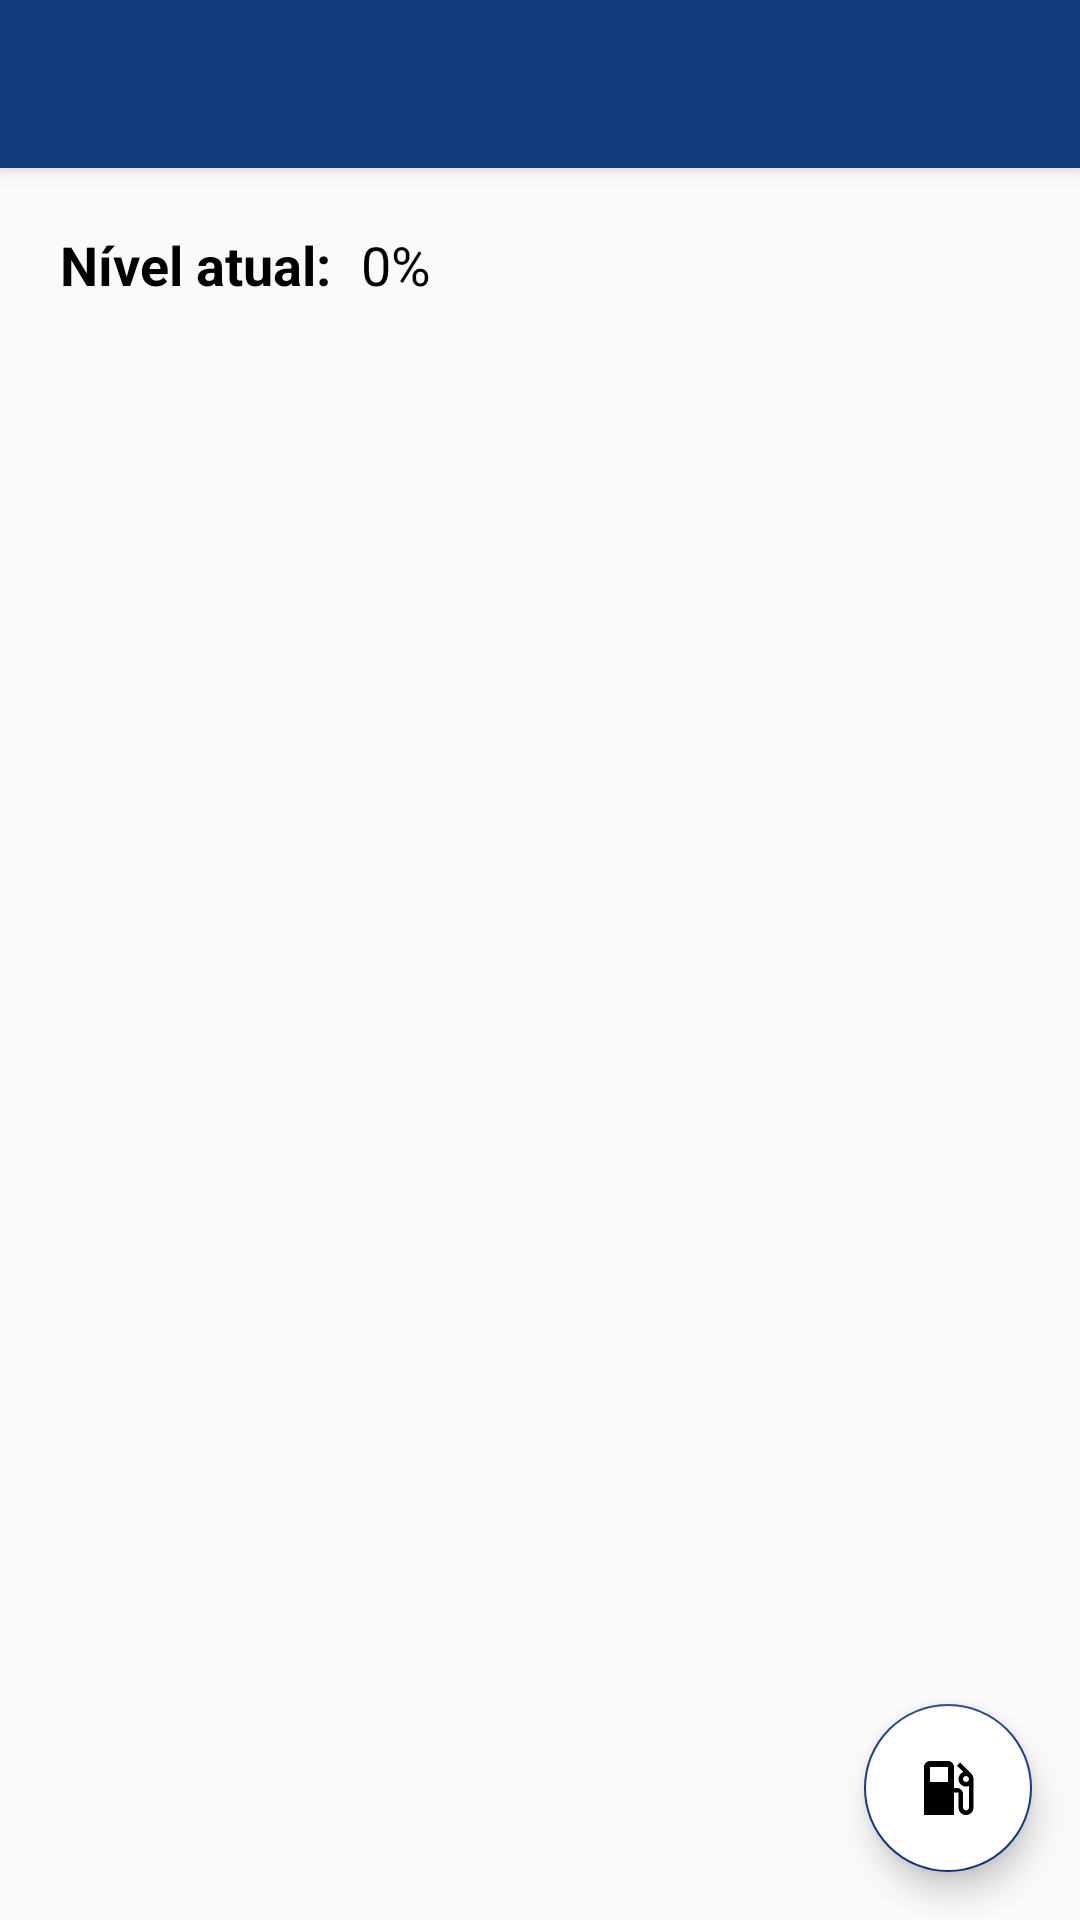

Where to tap for icons on this 1080px x 1920px app screen, as (x,y):
fab combustivel: (948,1788)
